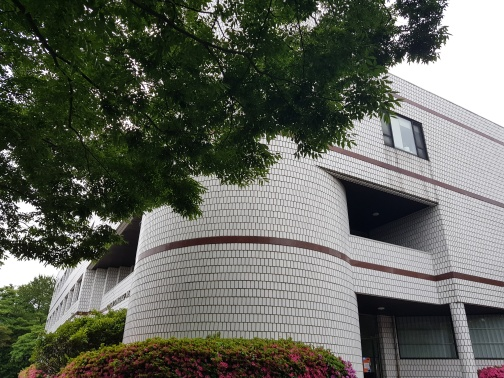Foreign Language Institute: (144, 46, 500, 374)
